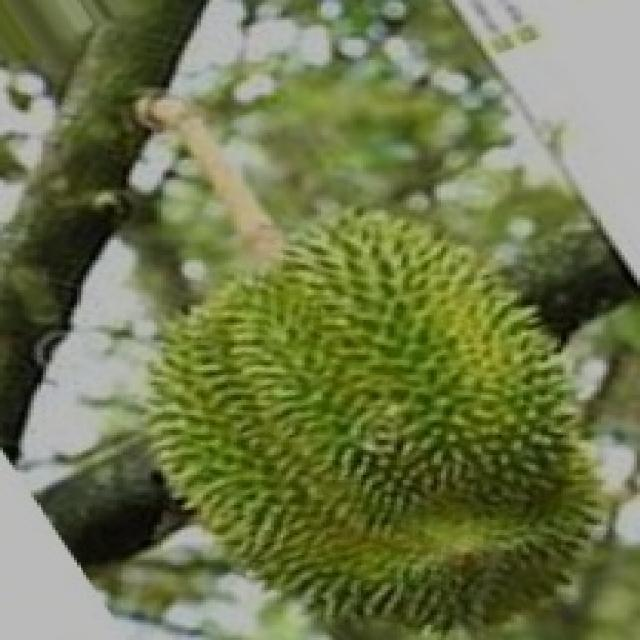fruit: (68, 232, 443, 640), (301, 200, 637, 638)
